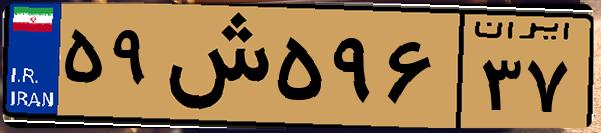3: (475, 38, 525, 113)
5: (270, 28, 330, 110), (57, 26, 110, 100)
6: (385, 28, 445, 110)
7: (525, 38, 570, 115)
9: (330, 28, 385, 110), (110, 28, 158, 98)
ش: (158, 12, 270, 120)
